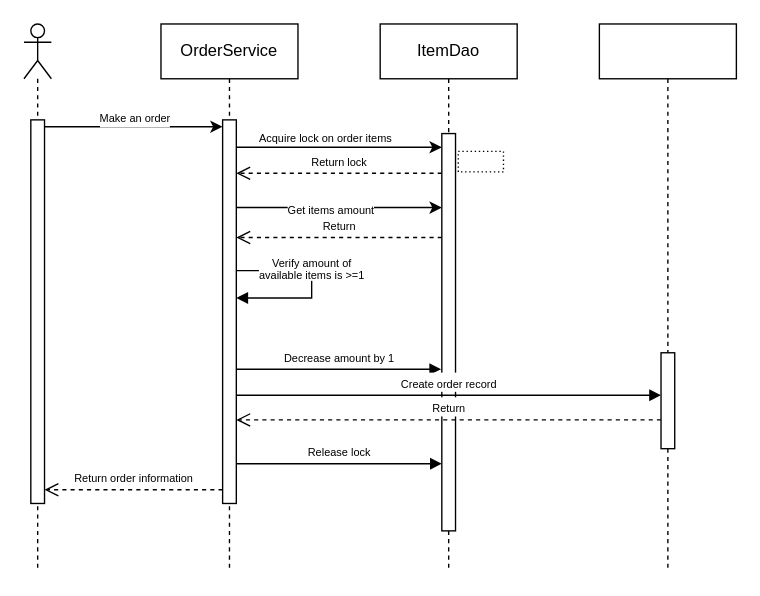
Some shapes in this 760 by 596 pixel diagram are drawn without their labels. Here are the shapes that lost their labels. From the top down, the box of each, then its label:
(457, 150, 503, 172): wait for lock
(598, 23, 736, 572): OrderDao
